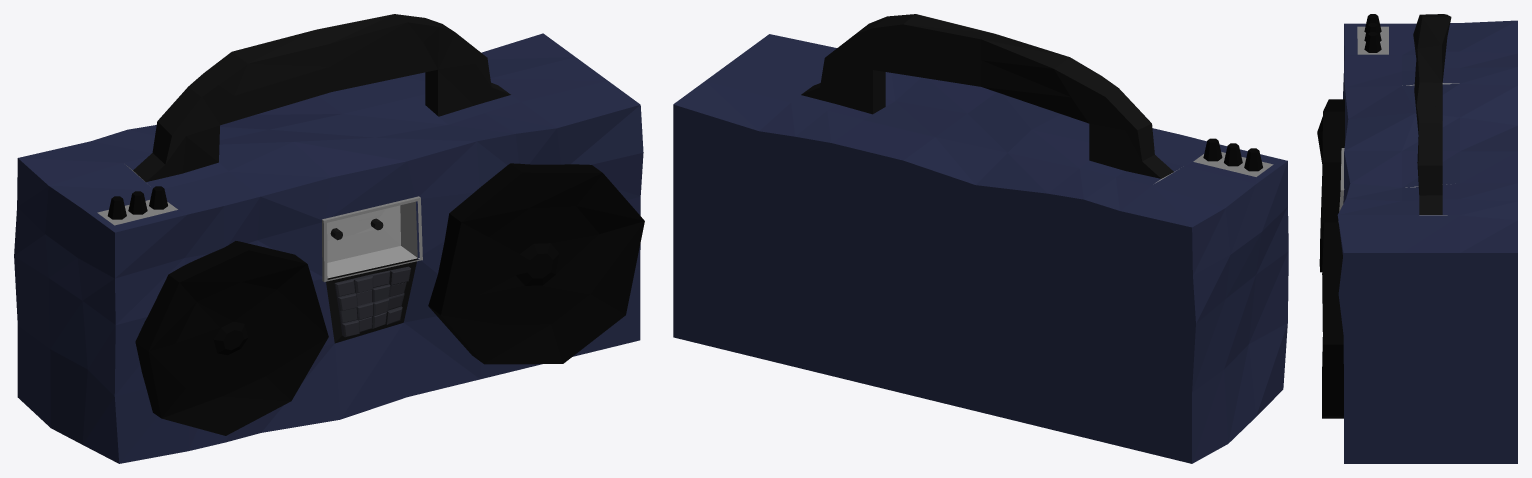
The model's file is boom-box-by-ginsta-z7e8fXnuXh.glb.
The picture shows the model from 3 angles, left to right: view 1: azimuth 30°, elevation 25°; view 2: azimuth 150°, elevation 25°; view 3: azimuth 270°, elevation 25°; orthographic projection. The views are drawn at different scales.
Parts seen in each view (by area): view 1: Cylinder.002; view 2: Cylinder.002; view 3: Cylinder.002.
Boxes of the visible parts, <box> form: Cylinder.002: <box>14,14,644,463</box>; Cylinder.002: <box>673,14,1288,463</box>; Cylinder.002: <box>1317,14,1517,463</box>.
Size of the model in its own units: 15.45 by 9.48 by 5.65.
